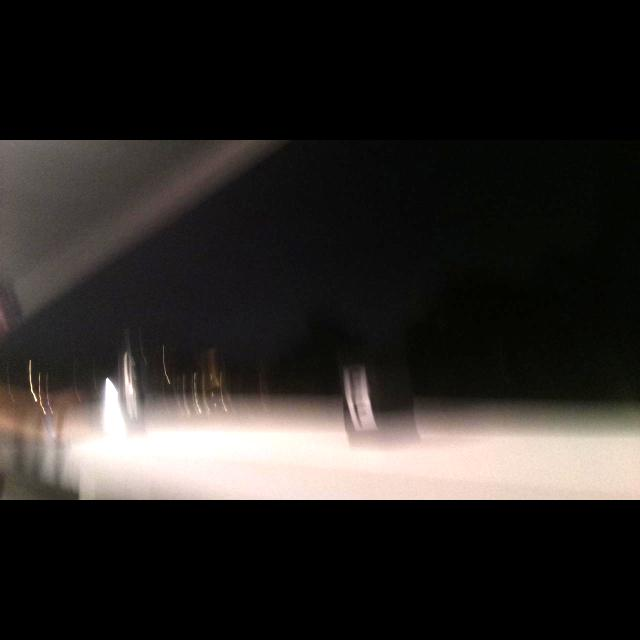F: (353, 403, 367, 427)
